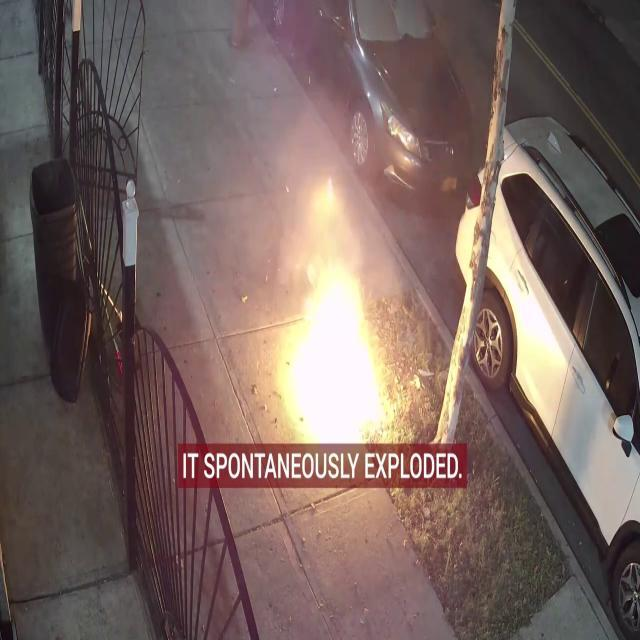Fire: (272, 206, 401, 459)
